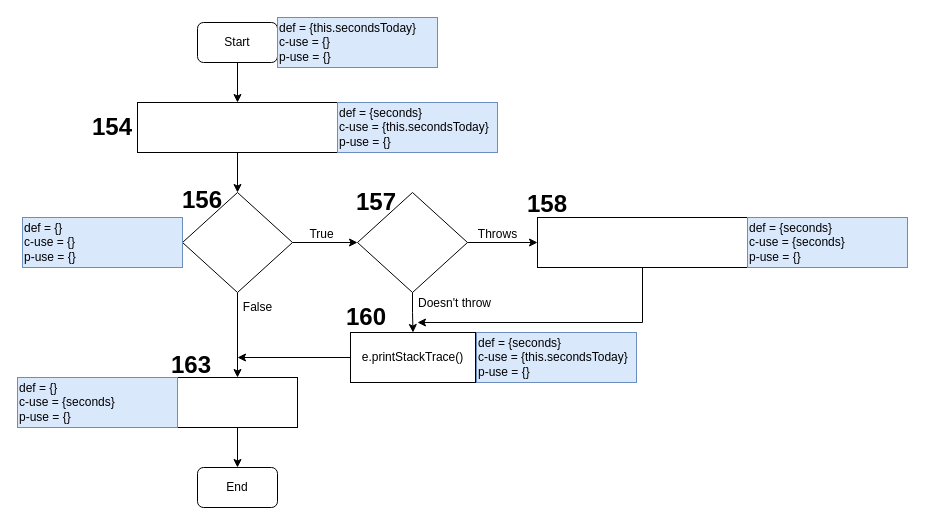
This 925x525 diagram has some shape labels left out. The shapes that lost their labels are listed below. From the top down, each one's box as (x1, y1, x2, y2) in pixels, then its label:
(136, 102, 338, 152): int seconds = this.secondsToday
(182, 192, 292, 292): this.isRunning()
(356, 192, 468, 292): Line 157.
(536, 216, 748, 268): seconds += this.getElapsedSeconds()
(176, 376, 298, 428): return seconds
